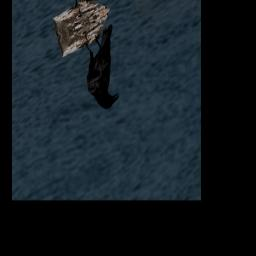Crow: (76, 22, 131, 117)
